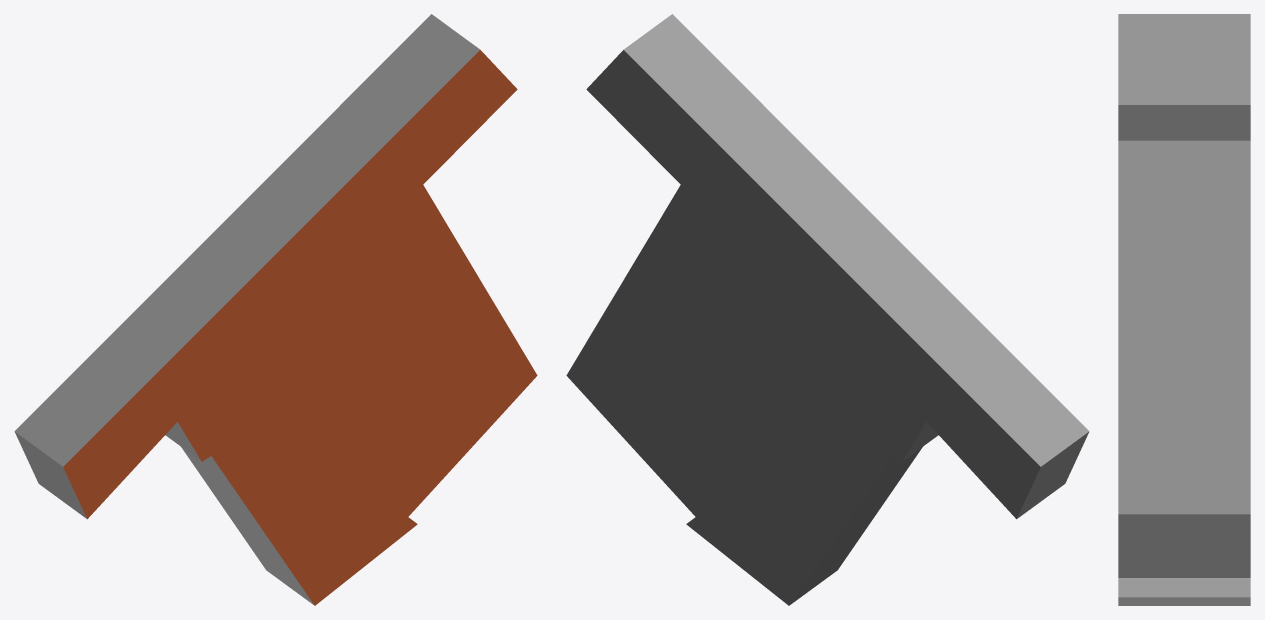
Rendered from construction_0704_assumed_A_Casa_h6m.obj.
3 renders of one model, left to right at view 1: azimuth 30°, elevation 25°; view 2: azimuth 150°, elevation 25°; view 3: azimuth 270°, elevation 25°, orthographic. The views are drawn at different scales.
Parts seen in each view (by area): view 1: construction_0704_assumed_A_Casa; view 2: construction_0704_assumed_A_Casa; view 3: construction_0704_assumed_A_Casa.
Boxes of the visible parts, x1,y1,x2,y2 form: construction_0704_assumed_A_Casa: (14,14,537,605); construction_0704_assumed_A_Casa: (566,14,1089,605); construction_0704_assumed_A_Casa: (1118,14,1250,605).
Size of the model in its own units: 33.74 by 35.06 by 6.
